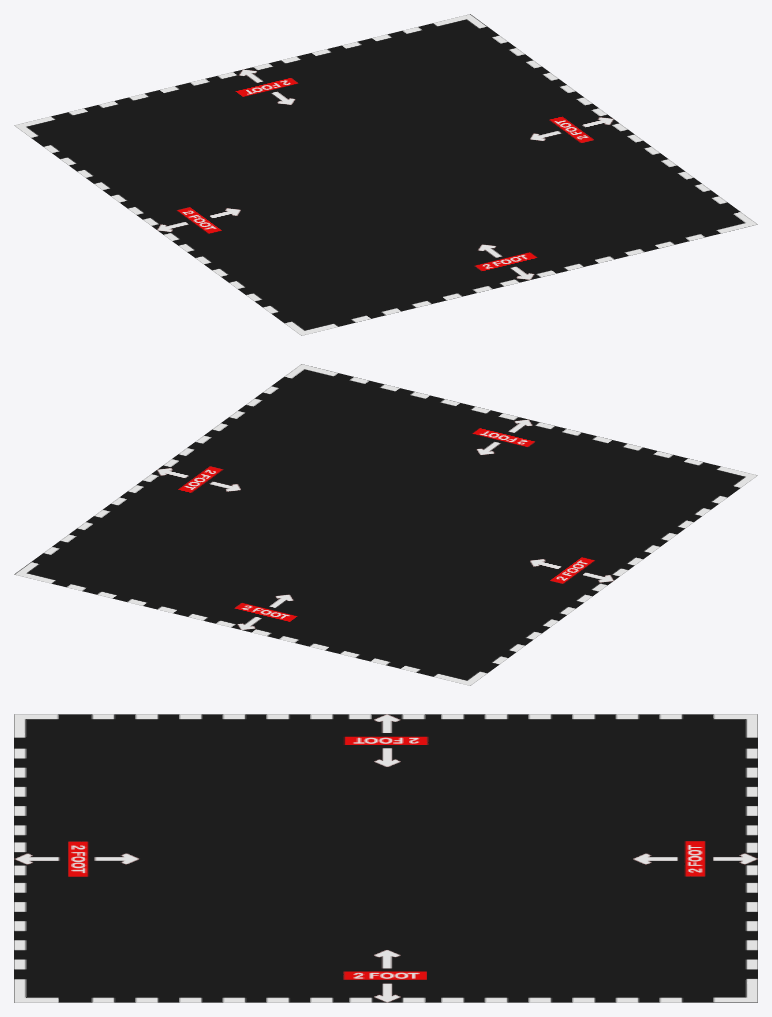
Rendered from 8ft_MarkingPlane_2ft.glb.
The picture shows the model from 3 angles, top to bottom: view 1: azimuth 30°, elevation 25°; view 2: azimuth 150°, elevation 25°; view 3: azimuth 270°, elevation 25°; orthographic projection. The views are drawn at different scales.
Parts seen in each view (by area): view 1: MarkingPlane_8ft_2ft; view 2: MarkingPlane_8ft_2ft; view 3: MarkingPlane_8ft_2ft.
Boxes of the visible parts, x1,y1,x2,y2 form: MarkingPlane_8ft_2ft: (14,14,757,335); MarkingPlane_8ft_2ft: (14,364,757,685); MarkingPlane_8ft_2ft: (14,714,757,1002).
Size of the model in its own units: 3.36 by 1.67e-06 by 3.67.
1 material, 1 textured.
